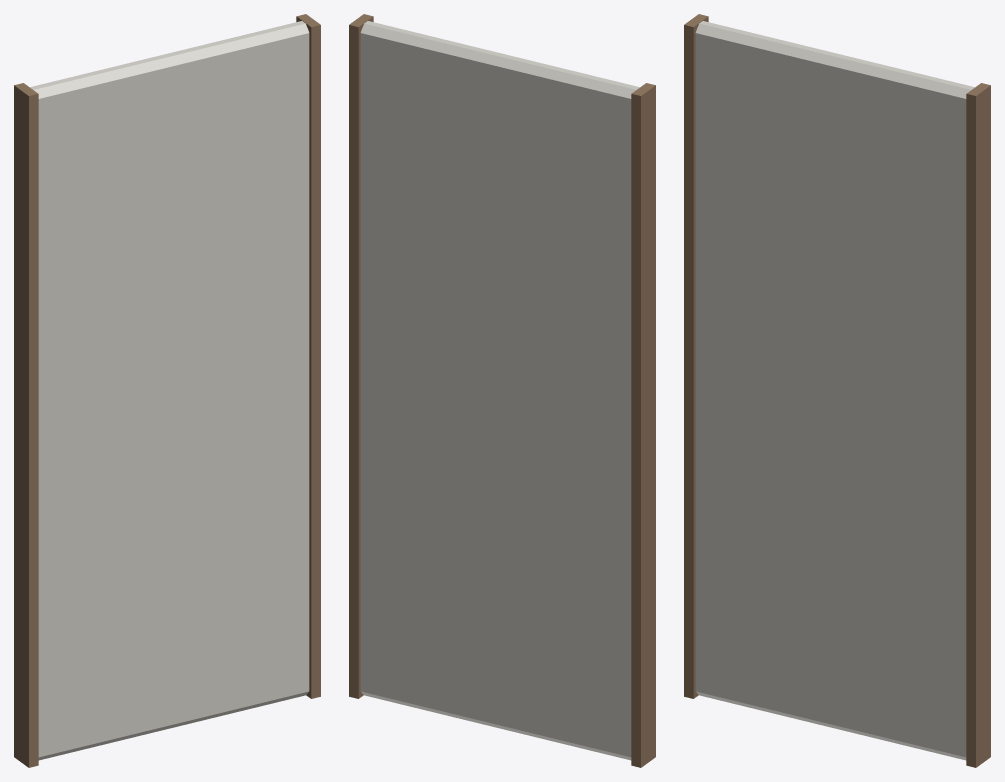
Rendered from feudal-japan-castle-town-fusuma-panel-c48278ab__26305.glb.
3 views of the same model, side by side, from view 1: azimuth 30°, elevation 25°; view 2: azimuth 150°, elevation 25°; view 3: azimuth 330°, elevation 25° (orthographic).
Parts seen in each view (by area): view 1: fusuma-panel; view 2: fusuma-panel; view 3: fusuma-panel.
Boxes of the visible parts, left/top/right/bottom form: fusuma-panel: left=14, top=14, right=320, bottom=767; fusuma-panel: left=349, top=14, right=655, bottom=767; fusuma-panel: left=684, top=14, right=990, bottom=767.
Size of the model in its own units: 0.91 by 2 by 0.0801.
